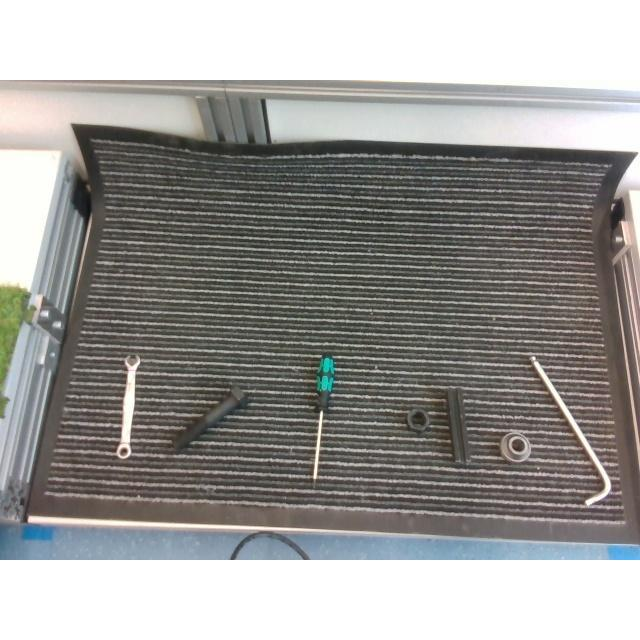AllenKey: (530, 354, 610, 506)
Bearing2: (500, 431, 532, 462)
F20_20_B: (445, 388, 473, 464)
M20: (406, 408, 429, 434)
M20_100: (173, 385, 247, 451)
Screwdriver: (312, 354, 336, 486)
Wrench: (116, 354, 140, 458)
